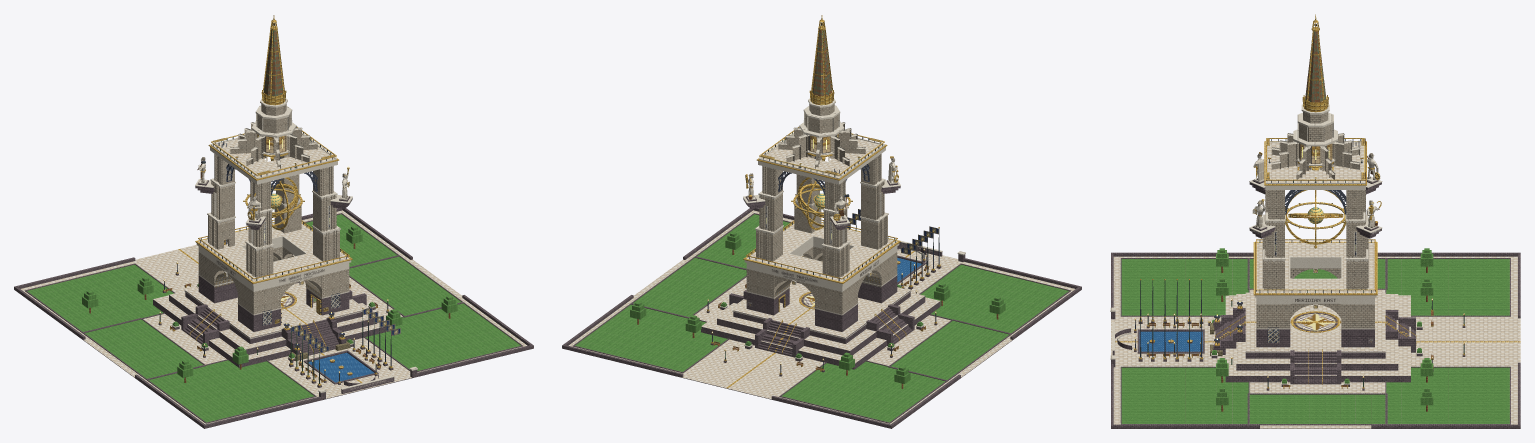
File: great-meridian-1941.glb
3 views of the same model, side by side, from view 1: azimuth 30°, elevation 25°; view 2: azimuth 150°, elevation 25°; view 3: azimuth 270°, elevation 25° (orthographic). The views are drawn at different scales.
Parts seen in each view (by area): view 1: lot_ground, structure, floor_plaza, floor_rotunda_plaza, floor_cornice_gallery, floor_observation_deck, floor_stairs_pz, armillary_outer; view 2: lot_ground, structure, floor_plaza, floor_rotunda_plaza, floor_cornice_gallery, floor_observation_deck, floor_stairs_mz, armillary_outer; view 3: lot_ground, structure, floor_plaza, floor_rotunda_plaza, floor_cornice_gallery, floor_observation_deck, floor_stairs_px, armillary_outer, floor_stairs_pz.
Part boxes in pixels (bbox=[...]): lot_ground: bbox=[14, 208, 533, 428]; structure: bbox=[153, 15, 390, 367]; floor_plaza: bbox=[20, 210, 527, 424]; floor_rotunda_plaza: bbox=[185, 281, 362, 337]; floor_cornice_gallery: bbox=[198, 222, 349, 281]; floor_observation_deck: bbox=[214, 135, 334, 177]; floor_stairs_pz: bbox=[290, 319, 338, 354]; armillary_outer: bbox=[243, 156, 304, 230]; lot_ground: bbox=[562, 208, 1081, 428]; structure: bbox=[701, 15, 940, 369]; floor_plaza: bbox=[568, 210, 1075, 424]; floor_rotunda_plaza: bbox=[733, 281, 910, 337]; floor_cornice_gallery: bbox=[746, 222, 897, 281]; floor_observation_deck: bbox=[761, 135, 881, 177]; floor_stairs_mz: bbox=[758, 320, 804, 355]; armillary_outer: bbox=[791, 156, 852, 230]; lot_ground: bbox=[1110, 252, 1520, 428]; structure: bbox=[1213, 14, 1416, 384]; floor_plaza: bbox=[1111, 256, 1520, 428]; floor_rotunda_plaza: bbox=[1245, 292, 1385, 351]; floor_cornice_gallery: bbox=[1256, 242, 1375, 293]; floor_observation_deck: bbox=[1267, 142, 1364, 182]; floor_stairs_px: bbox=[1294, 352, 1336, 382]; armillary_outer: bbox=[1285, 166, 1346, 245]; floor_stairs_pz: bbox=[1215, 311, 1245, 344].
Size of what is drawn, in the model's own units: 120 by 107 by 120.
12 materials, 12 textured.
